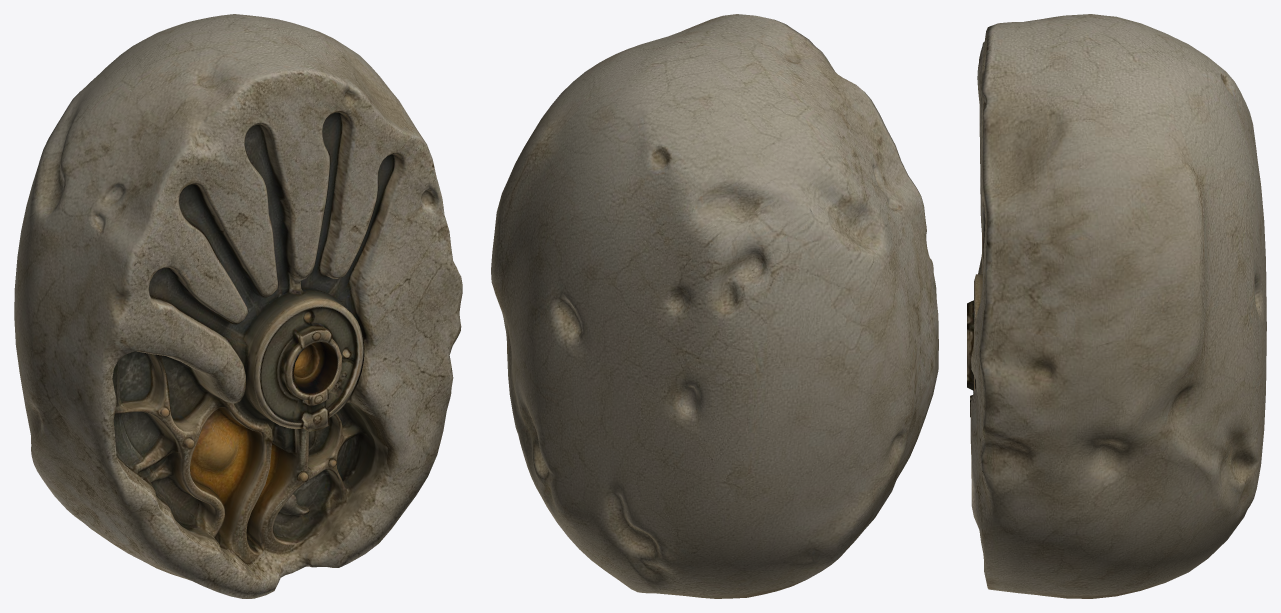
File: tacit-knowledge-fossil.glb
The picture shows the model from 3 angles, left to right: view 1: azimuth 30°, elevation 25°; view 2: azimuth 150°, elevation 25°; view 3: azimuth 270°, elevation 25°; orthographic projection. The views are drawn at different scales.
Visible parts, largest first — view 1: tripo_60e4c531_9689_456a_aee3_922e0ee516f2; view 2: tripo_60e4c531_9689_456a_aee3_922e0ee516f2; view 3: tripo_60e4c531_9689_456a_aee3_922e0ee516f2.
Boxes of the visible parts, left/top/right/bottom form: tripo_60e4c531_9689_456a_aee3_922e0ee516f2: left=14, top=14, right=462, bottom=598; tripo_60e4c531_9689_456a_aee3_922e0ee516f2: left=491, top=14, right=938, bottom=598; tripo_60e4c531_9689_456a_aee3_922e0ee516f2: left=967, top=14, right=1266, bottom=598.
Size of the model in its own units: 0.771 by 0.9995 by 0.4985.
1 material, 1 textured.
